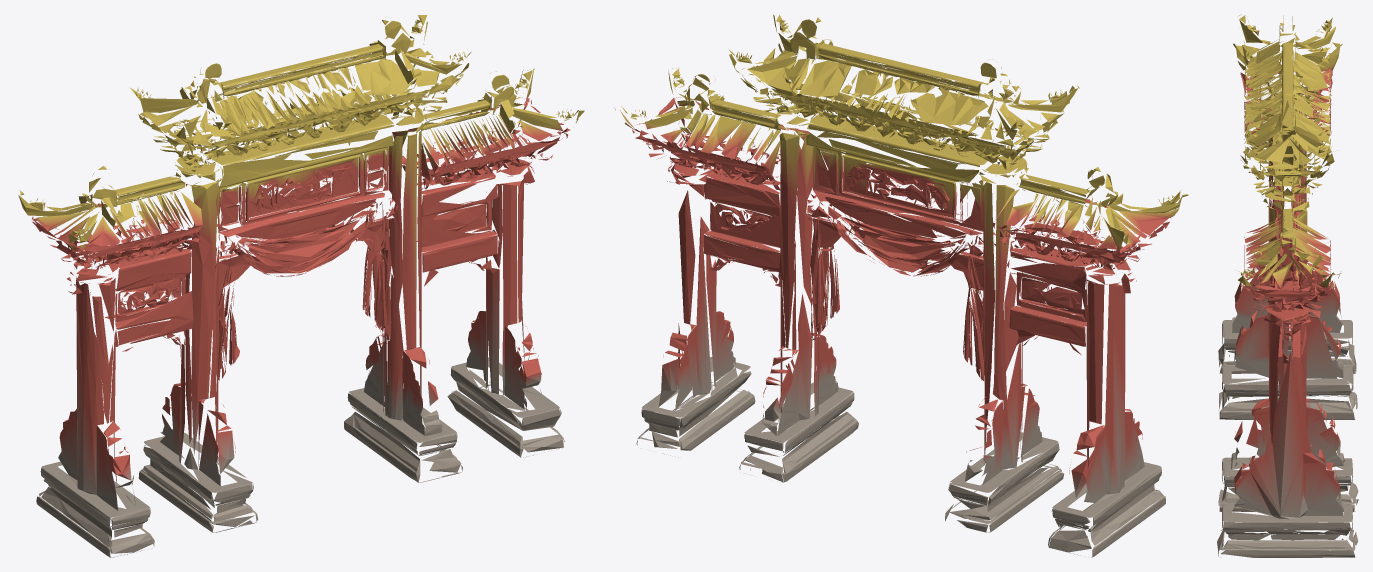
Rendered from gate.glb.
3 renders of one model, left to right at view 1: azimuth 30°, elevation 25°; view 2: azimuth 150°, elevation 25°; view 3: azimuth 270°, elevation 25°, orthographic. The views are drawn at different scales.
Parts seen in each view (by area): view 1: world; view 2: world; view 3: world.
Part boxes in pixels (bbox=[...]): world: bbox=[18, 15, 584, 557]; world: bbox=[614, 14, 1188, 557]; world: bbox=[1217, 14, 1358, 557].
Bounding box in the file's own units: 10 × 8 × 2.57.
